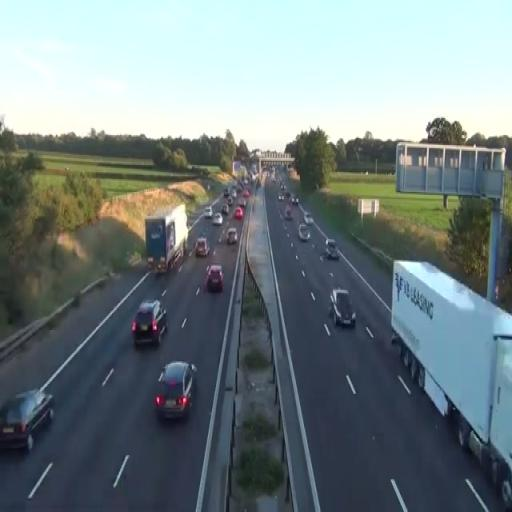Car: (0, 386, 55, 453), (154, 361, 198, 420), (130, 299, 168, 348), (328, 288, 356, 328), (204, 264, 224, 292), (194, 236, 210, 258), (227, 228, 238, 244), (212, 212, 223, 226)
Truck: (390, 260, 512, 508), (145, 204, 188, 275)
